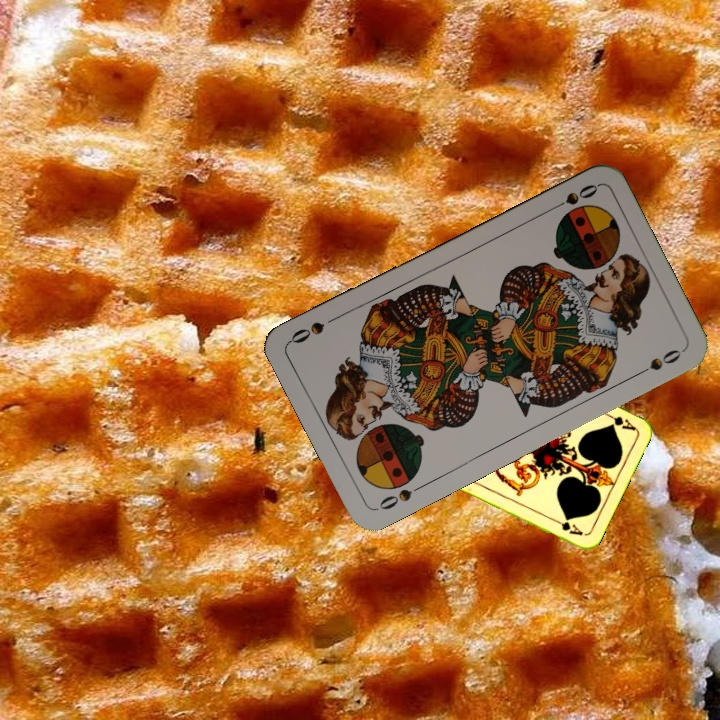GA: (600, 408, 638, 433)
SO: (545, 180, 601, 214), (373, 479, 428, 513)
